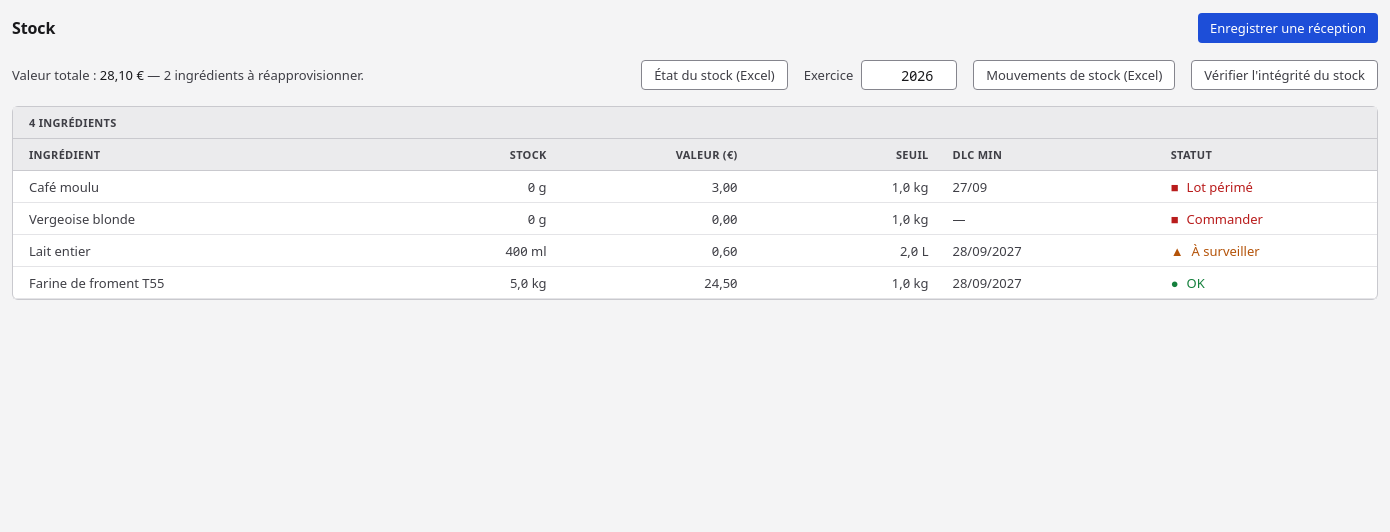
Stock — urgence et péremption › un ingrédient SANS matière périmée n’affiche aucun compteur de périmé — le signal reste rare
This screenshot has width=1390, height=532.
Click the row "Farine de froment T55 5,0 kg 24,50 1,0 kg 28/09/2027 ● OK" at [695, 283], box [13,267,1377,299]
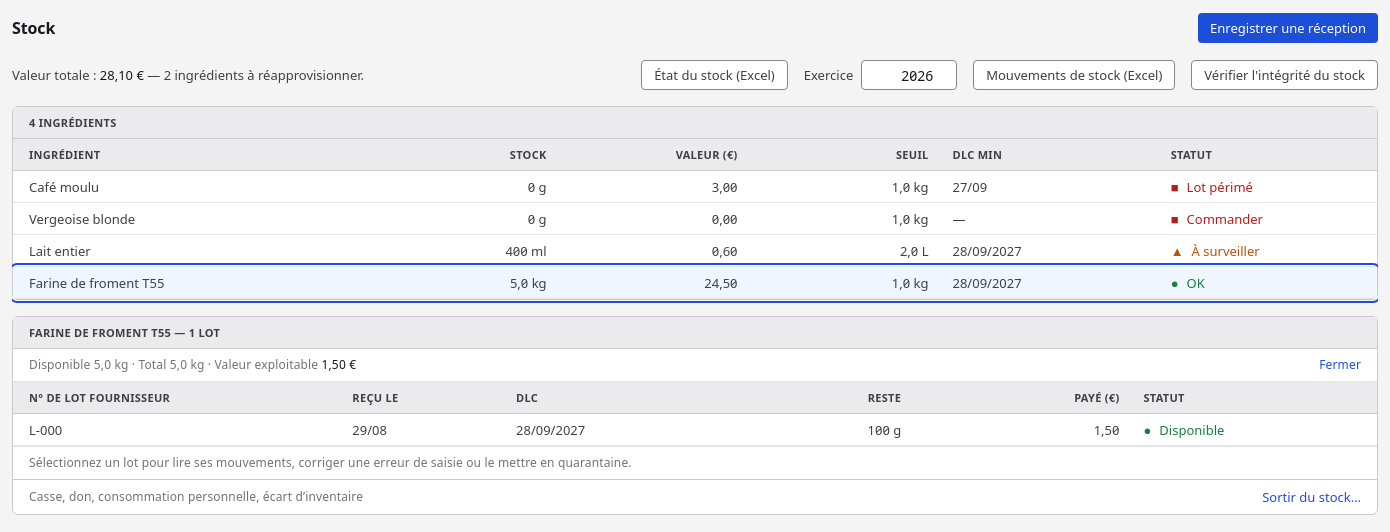
Expected: the row "L-000 29/08 28/09/2027 100 g 1,50 ● Disponible" is shown, [13,414,1377,446]
Expected: the text "Disponible 5,0 kg · Total 5,0 kg · Valeur exploitable 1,50 €" is shown, [29,357,356,373]
